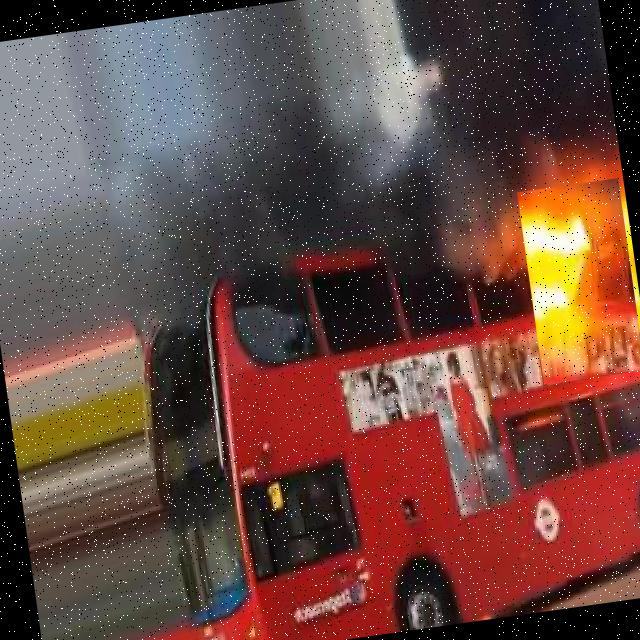fire: (517, 178, 640, 384)
